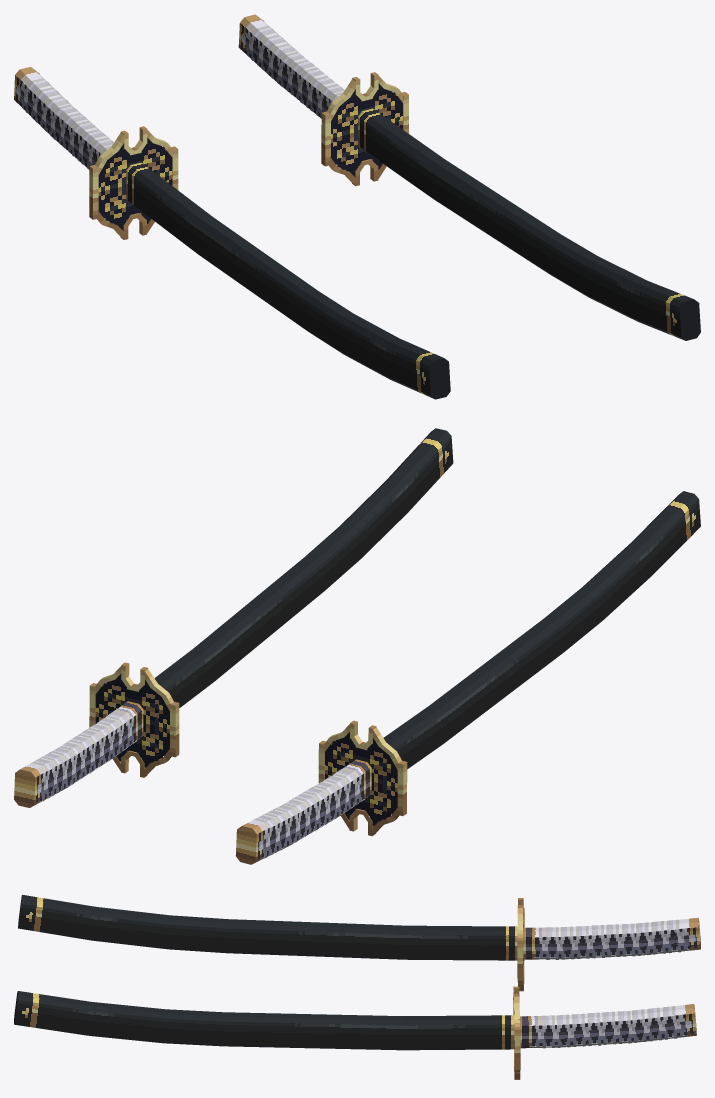
Rendered from a_yamato_in_sheath.glb.
3 views of the same model, one above another, from view 1: azimuth 30°, elevation 25°; view 2: azimuth 150°, elevation 25°; view 3: azimuth 270°, elevation 25° (orthographic). The views are drawn at different scales.
Parts seen in each view (by area): view 1: main__Tool_R, off__Tool_L; view 2: off__Tool_L, main__Tool_R; view 3: off__Tool_L, main__Tool_R.
Part boxes in pixels (x1=…): main__Tool_R: x1=238, y1=14, x2=700, y2=340; off__Tool_L: x1=14, y1=67, x2=450, y2=399; off__Tool_L: x1=235, y1=491, x2=700, y2=864; main__Tool_R: x1=14, y1=428, x2=453, y2=807; off__Tool_L: x1=18, y1=894, x2=700, y2=991; main__Tool_R: x1=14, y1=986, x2=696, y2=1079.
Bounding box in the file's own units: 1.08 × 0.3595 × 2.59.
1 material, 1 textured.
